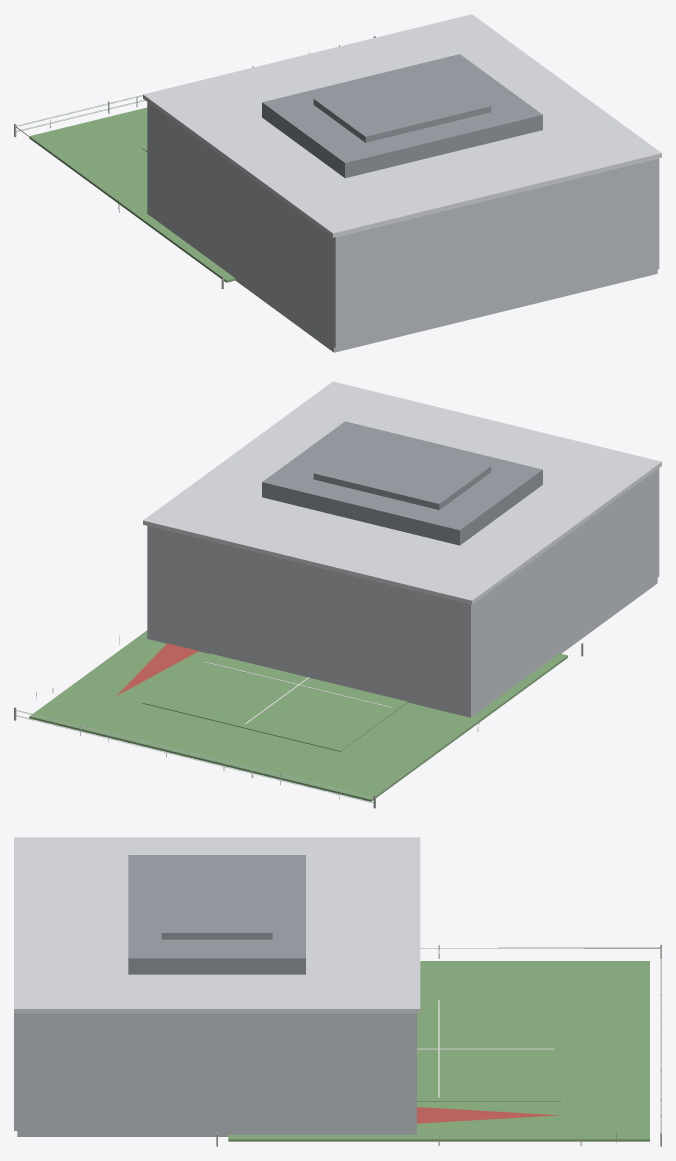
The model's file is buildings-3-medium.glb.
3 views of the same model, one above another, from view 1: azimuth 30°, elevation 25°; view 2: azimuth 150°, elevation 25°; view 3: azimuth 270°, elevation 25° (orthographic). The views are drawn at different scales.
Parts seen in each view (by area): view 1: 北区体育馆 · Gym pale panel.001, 北区体育馆 · Gym trim.001, 北区体育馆 · Gym roof metal.001, 北区体育馆 · Gym field grass.001, 北区体育馆 · Gym fence rail.001; view 2: 北区体育馆 · Gym pale panel.001, 北区体育馆 · Gym trim.001, 北区体育馆 · Gym field grass.001, 北区体育馆 · Gym roof metal.001, 北区体育馆 · Gym fence rail.001, 北区体育馆 · Gym track red.001; view 3: 北区体育馆 · Gym trim.001, 北区体育馆 · Gym pale panel.001, 北区体育馆 · Gym field grass.001, 北区体育馆 · Gym roof metal.001, 北区体育馆 · Gym track red.001, 北区体育馆 · Gym fence rail.001, 北区体育馆 · Gym track line.001.
Boxes of the visible parts, bbox=[...] form: 北区体育馆 · Gym pale panel.001: bbox=[147, 102, 659, 352]; 北区体育馆 · Gym trim.001: bbox=[143, 14, 661, 237]; 北区体育馆 · Gym roof metal.001: bbox=[262, 54, 542, 178]; 北区体育馆 · Gym field grass.001: bbox=[29, 107, 235, 282]; 北区体育馆 · Gym fence rail.001: bbox=[16, 95, 197, 259]; 北区体育馆 · Gym pale panel.001: bbox=[147, 468, 659, 717]; 北区体育馆 · Gym trim.001: bbox=[143, 381, 661, 604]; 北区体育馆 · Gym field grass.001: bbox=[29, 630, 567, 801]; 北区体育馆 · Gym roof metal.001: bbox=[262, 421, 542, 545]; 北区体育馆 · Gym fence rail.001: bbox=[16, 669, 549, 803]; 北区体育馆 · Gym track red.001: bbox=[116, 643, 198, 696]; 北区体育馆 · Gym trim.001: bbox=[14, 837, 420, 1013]; 北区体育馆 · Gym pale panel.001: bbox=[14, 1013, 416, 1136]; 北区体育馆 · Gym field grass.001: bbox=[228, 961, 649, 1141]; 北区体育馆 · Gym roof metal.001: bbox=[128, 855, 305, 974]; 北区体育馆 · Gym track red.001: bbox=[417, 1107, 558, 1123]; 北区体育馆 · Gym fence rail.001: bbox=[420, 947, 661, 1132]; 北区体育馆 · Gym track line.001: bbox=[417, 1000, 554, 1097].
Size of the model in its own units: 40.16 by 15.15 by 58.38.
